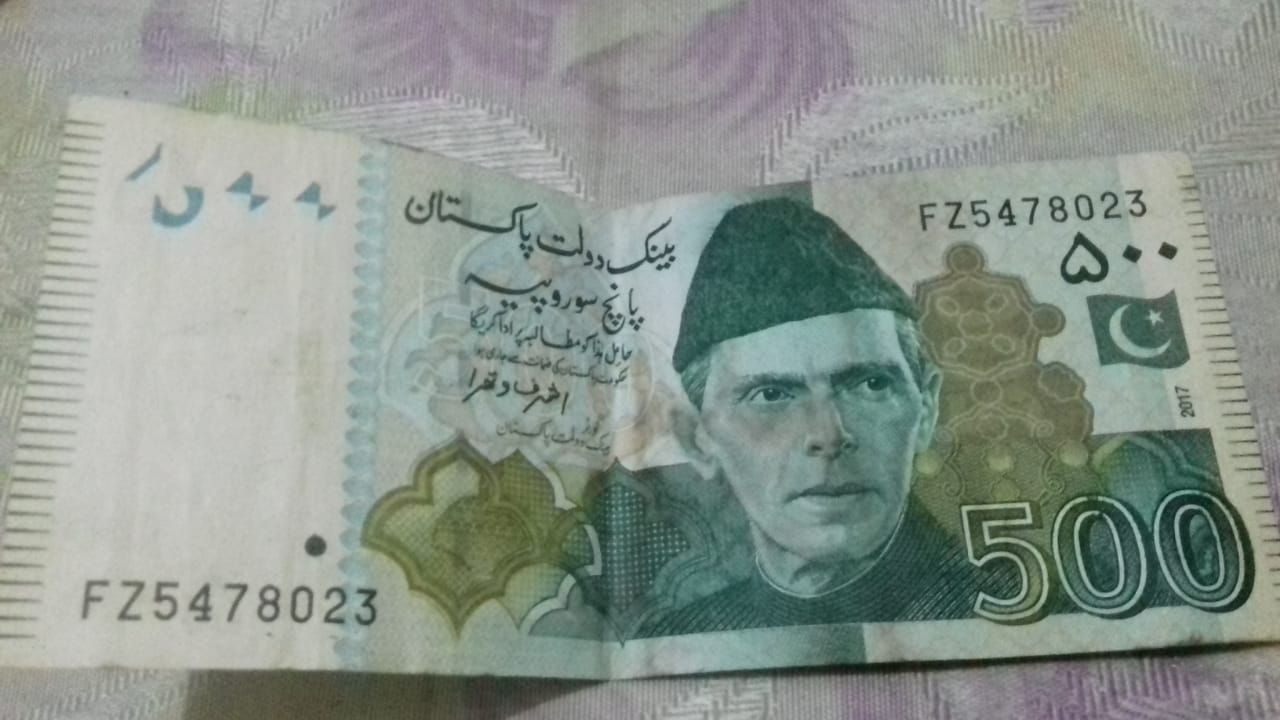500 rupee: (6, 75, 1271, 719)
